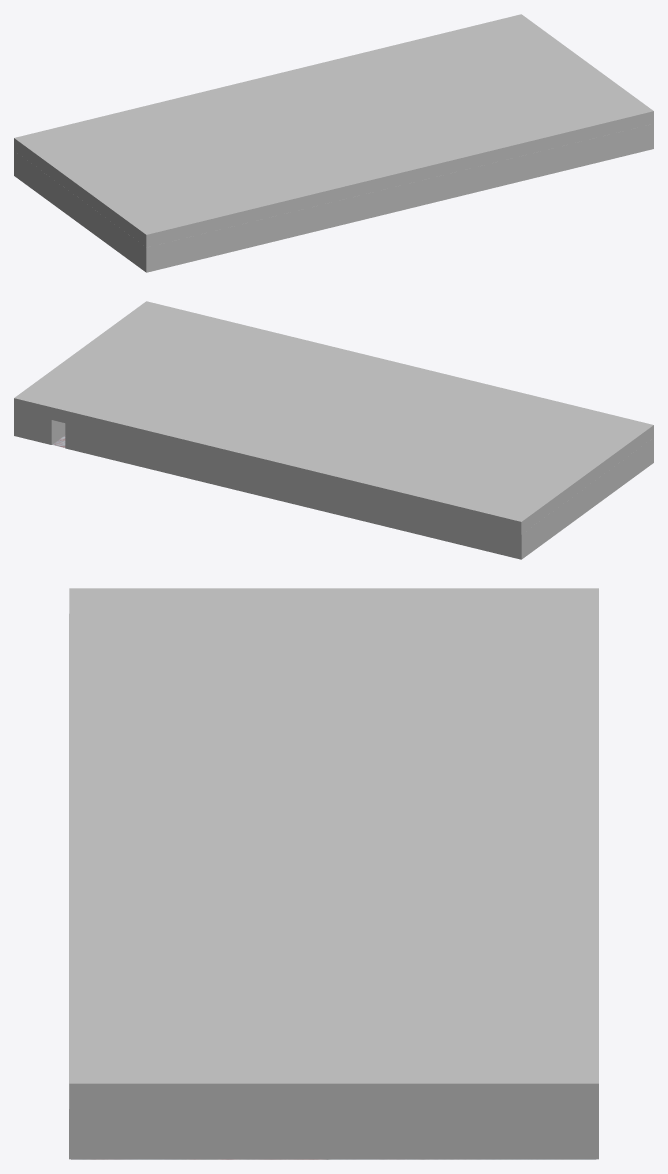
Rendered from MAP-1.fbx.
The picture shows the model from 3 angles, top to bottom: view 1: azimuth 30°, elevation 25°; view 2: azimuth 150°, elevation 25°; view 3: azimuth 270°, elevation 25°; orthographic projection. The views are drawn at different scales.
Visible parts, largest first — view 1: C-1, COIN.050, Cube.032; view 2: C-1, COIN.050, Cube.032; view 3: C-1, COIN.050, Cube.032.
Boxes of the visible parts, bbox=[...] form: C-1: bbox=[15, 14, 652, 234]; COIN.050: bbox=[14, 124, 653, 272]; Cube.032: bbox=[14, 14, 653, 247]; C-1: bbox=[15, 301, 652, 521]; COIN.050: bbox=[14, 411, 653, 559]; Cube.032: bbox=[14, 301, 653, 534]; C-1: bbox=[70, 589, 597, 1082]; COIN.050: bbox=[69, 614, 598, 1159]; Cube.032: bbox=[69, 588, 598, 1108].
Size of the model in its own units: 3369 by 1523 by 241.
